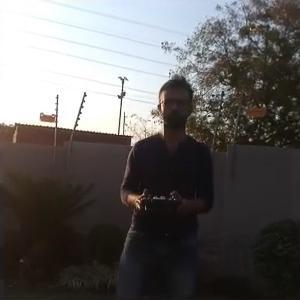follow: (107, 67, 218, 298)
